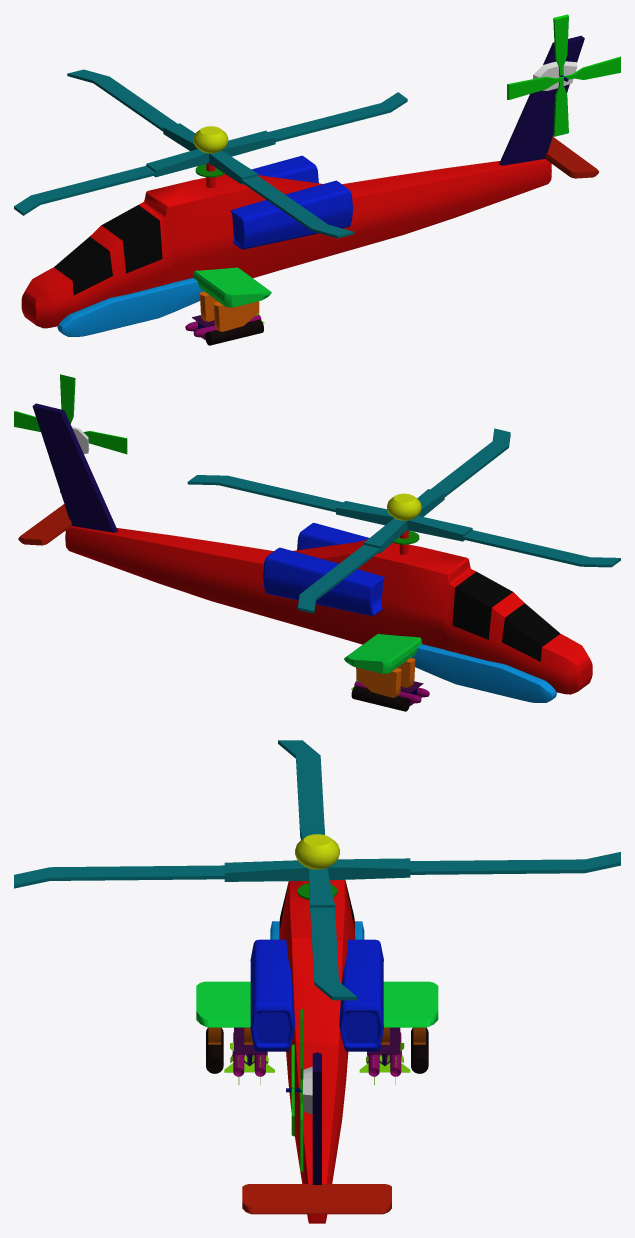
File: attack_helicopter.fbx
3 renders of one model, top to bottom at view 1: azimuth 30°, elevation 25°; view 2: azimuth 150°, elevation 25°; view 3: azimuth 270°, elevation 25°, orthographic. The views are drawn at different scales.
Visible parts, largest first — view 1: Body, Main rotors, Back rotors; view 2: Body, Main rotors, Back rotors; view 3: Body, Main rotors, Back rotors.
Boxes of the visible parts, left/top/right/bottom form: Body: left=21, top=35, right=599, bottom=345; Main rotors: left=14, top=69, right=407, bottom=238; Back rotors: left=507, top=14, right=620, bottom=136; Body: left=18, top=403, right=592, bottom=711; Main rotors: left=187, top=428, right=620, bottom=613; Back rotors: left=14, top=374, right=127, bottom=492; Body: left=196, top=880, right=438, bottom=1223; Main rotors: left=14, top=740, right=620, bottom=1000; Back rotors: left=286, top=1008, right=303, bottom=1171.
Bounding box in the file's own units: 954 × 325 × 640.
